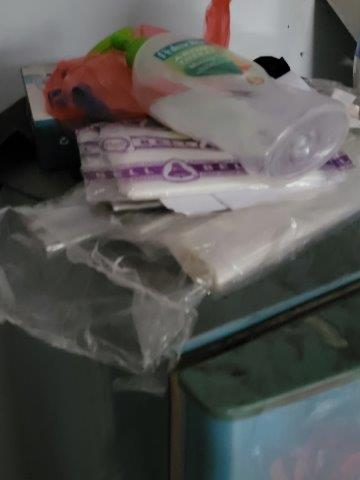plastik: (16, 124, 360, 282)
